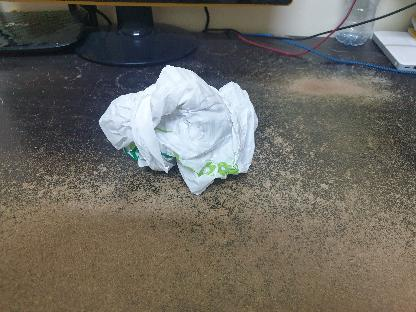Plastic Bag: (96, 63, 260, 194)
